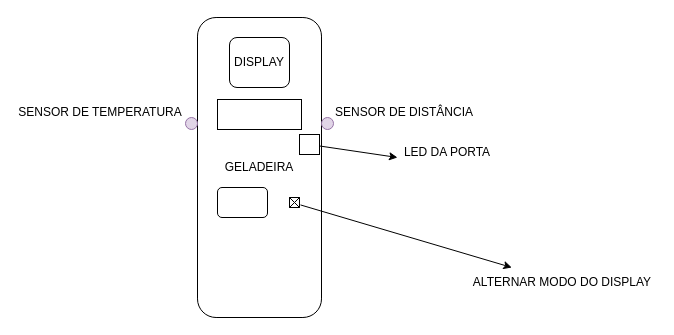
This 674x335 diagram has some shape labels left out. The centre of each missing label's shape, as x and y in pixels:
BUZZER: [242,202]
TECLADO: [259,114]
